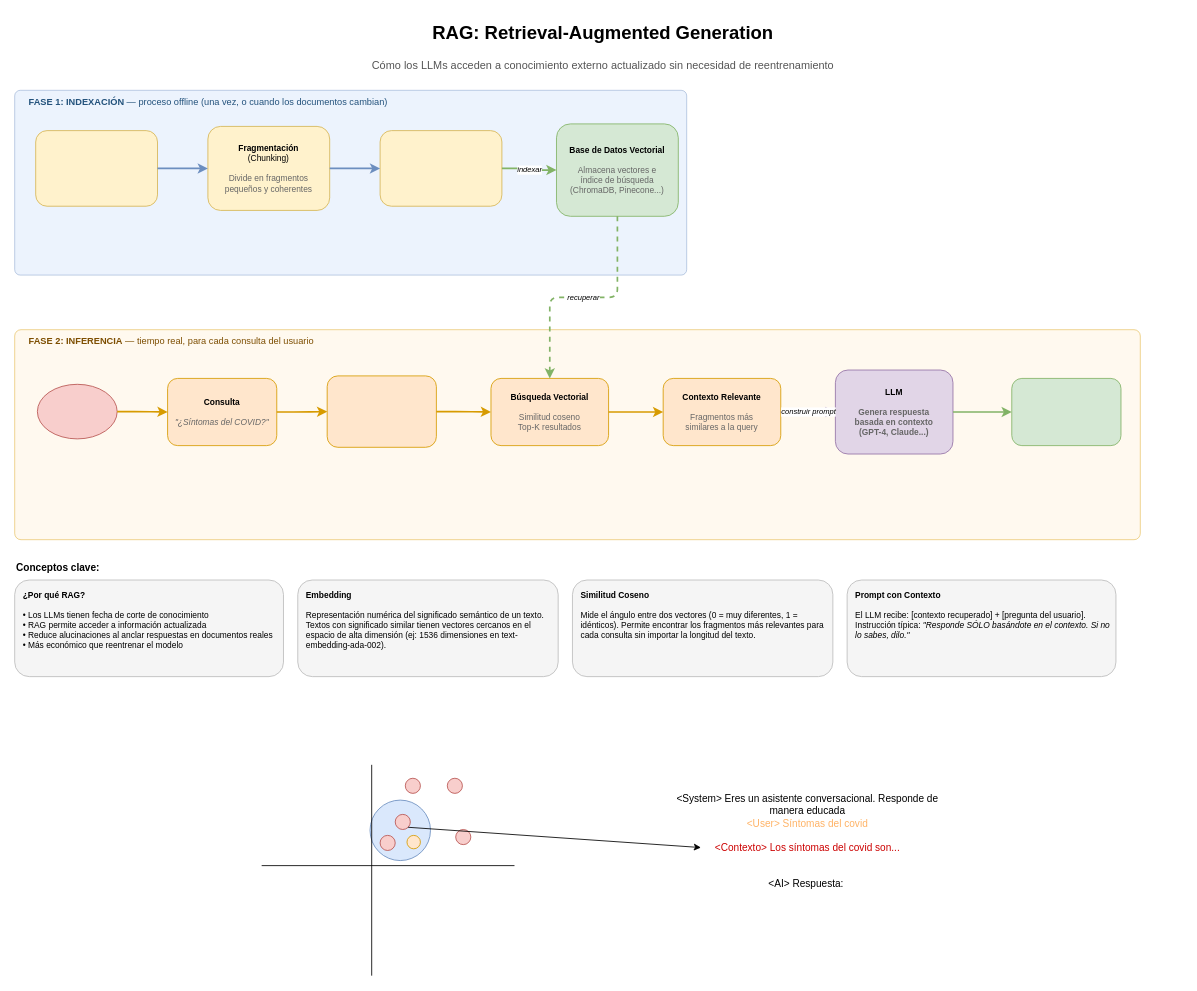
Image size: 1197x991. Some labels were removed from this diagram. The box of each missing label's shape, as (x1, y1, x2, y2) in pixels:
Embedding de la Consulta [0.12, -0.54, 0.89...]: (326, 375, 436, 447)
Fuentes de Datos PDFs, webs, bases de datos, correos, APIs: (35, 130, 158, 206)
Modelo de Embeddings Texto → vectores numéricos densos: (379, 130, 502, 206)
Respuesta Fundamentada Precisa y trazable: (1011, 378, 1121, 446)
Usuario: (37, 383, 117, 439)
